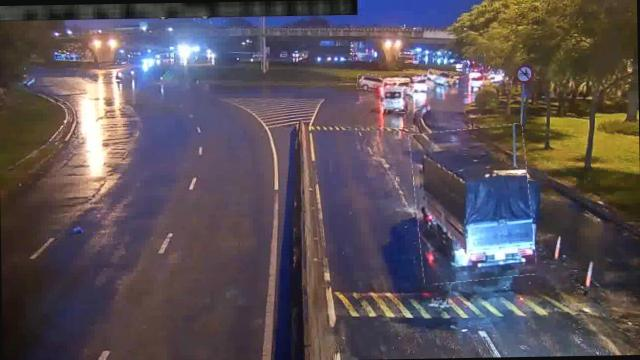Bus: (380, 85, 409, 112)
Car: (426, 70, 454, 86), (357, 74, 384, 90), (412, 77, 437, 91)
Truck: (412, 125, 534, 282)
